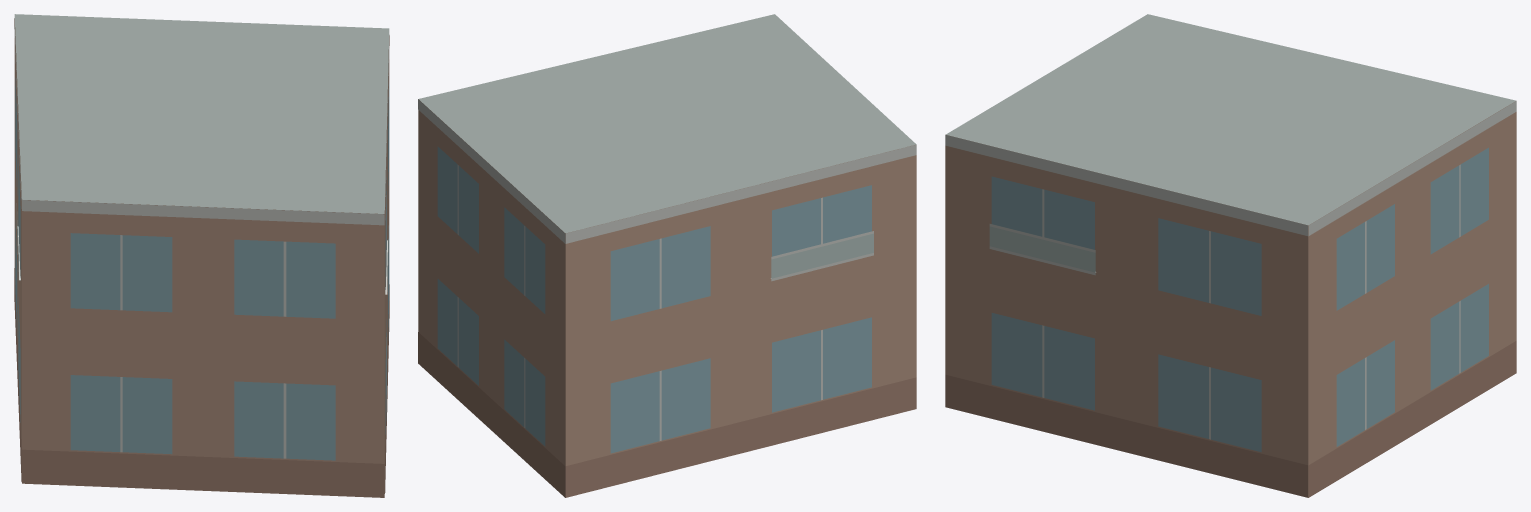
Rendered from survey-upis-32812506.glb.
The picture shows the model from 3 angles, left to right: view 1: azimuth 30°, elevation 25°; view 2: azimuth 150°, elevation 25°; view 3: azimuth 270°, elevation 25°; orthographic projection. The views are drawn at different scales.
Visible parts, largest first — view 1: survey-upis-32812506.tmp; view 2: survey-upis-32812506.tmp; view 3: survey-upis-32812506.tmp.
Boxes of the visible parts, box(x1,y1,x2,y2) form: survey-upis-32812506.tmp: box(14, 14, 389, 497); survey-upis-32812506.tmp: box(418, 14, 916, 497); survey-upis-32812506.tmp: box(945, 14, 1516, 497).
Size of the model in its own units: 10.16 by 6.1 by 11.6.
